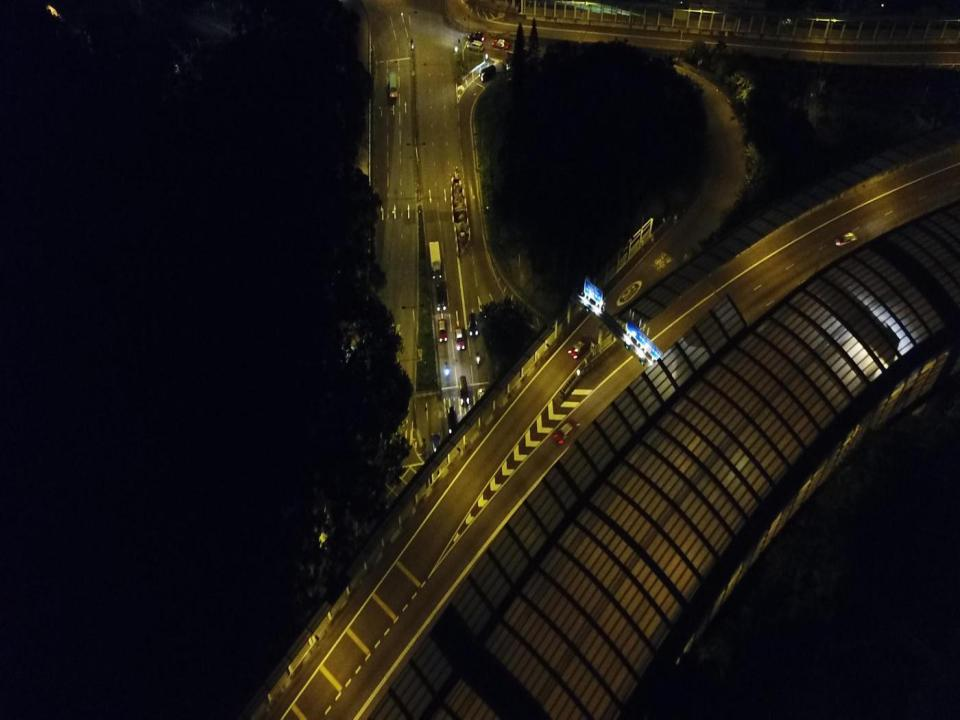bus: (388, 69, 399, 98)
car: (554, 417, 579, 443), (570, 336, 592, 358), (446, 405, 459, 435), (835, 231, 857, 247), (431, 430, 443, 458), (436, 282, 447, 312), (454, 325, 466, 351), (476, 386, 488, 410), (437, 318, 448, 344), (468, 313, 479, 337), (467, 30, 486, 43), (466, 39, 484, 52), (491, 38, 510, 50)
truck: (429, 240, 442, 280)
van: (459, 374, 470, 406), (478, 64, 496, 81)
